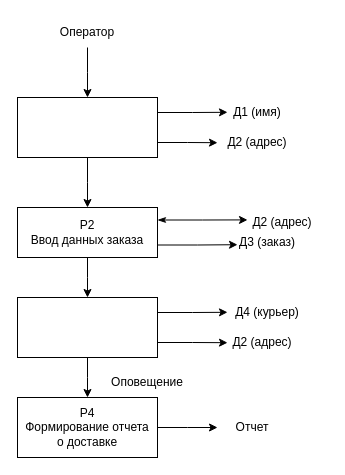
This 345x475 diagram has some shape labels left out. The shapes that lost their labels are listed below. From the top down, each one's centre as x and y in pixels, then its label:
At point (87, 127): "P1 Ввод данных клиента".
At point (87, 327): "P3 Формирование доставки".
